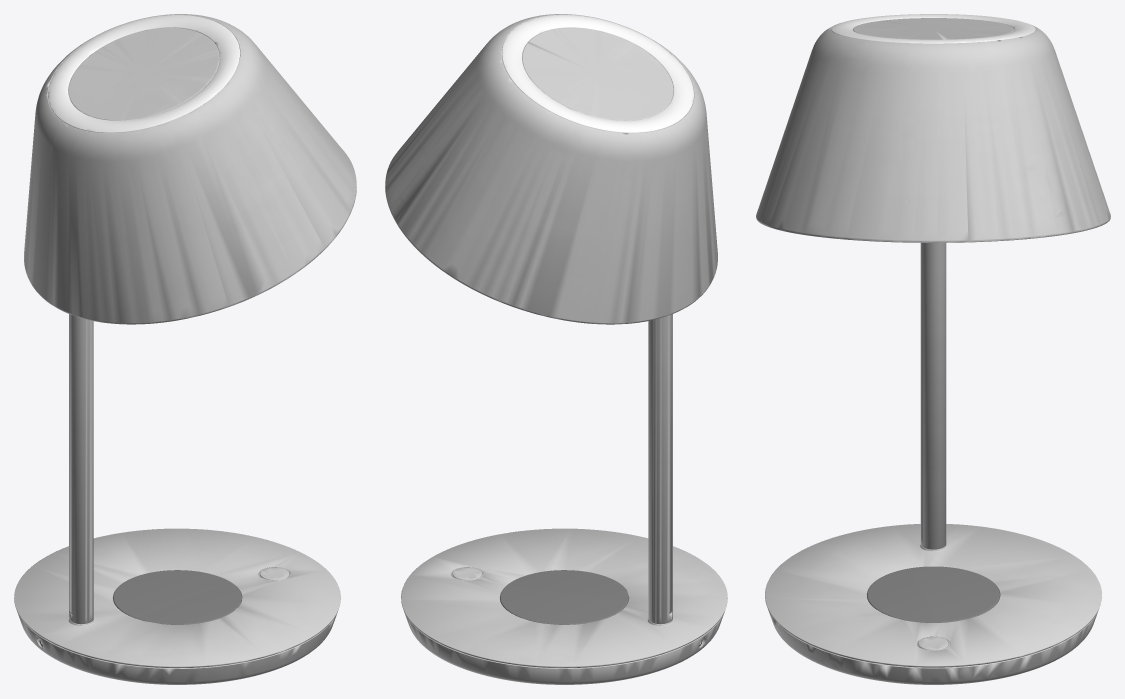
The model's file is sr_lamp_table_bedside_a01.glb.
The picture shows the model from 3 angles, left to right: view 1: azimuth 30°, elevation 25°; view 2: azimuth 150°, elevation 25°; view 3: azimuth 270°, elevation 25°; orthographic projection. The views are drawn at different scales.
Parts seen in each view (by area): view 1: m_opaque__metal__paintedRough_white_a01_1, m_opaque__plastic__emissive_white_a01_5, m_opaque__metal__painted_gray_a01_2; view 2: m_opaque__metal__paintedRough_white_a01_1, m_opaque__plastic__emissive_white_a01_5, m_opaque__metal__painted_gray_a01_2; view 3: m_opaque__metal__paintedRough_white_a01_1, m_opaque__metal__painted_gray_a01_2, m_opaque__plastic__emissive_white_a01_5.
Boxes of the visible parts, box(x1,y1,x2,y2) form: m_opaque__metal__paintedRough_white_a01_1: box(14, 14, 356, 684); m_opaque__plastic__emissive_white_a01_5: box(48, 15, 239, 132); m_opaque__metal__painted_gray_a01_2: box(113, 570, 241, 624); m_opaque__metal__paintedRough_white_a01_1: box(385, 14, 727, 684); m_opaque__plastic__emissive_white_a01_5: box(502, 15, 693, 132); m_opaque__metal__painted_gray_a01_2: box(500, 570, 628, 624); m_opaque__metal__paintedRough_white_a01_1: box(756, 18, 1110, 684); m_opaque__metal__painted_gray_a01_2: box(867, 566, 999, 622); m_opaque__plastic__emissive_white_a01_5: box(831, 14, 1035, 43).
Size of the model in its own units: 0.1981 by 0.3716 by 0.1987.
Materials: 5 (4 with a texture image).
